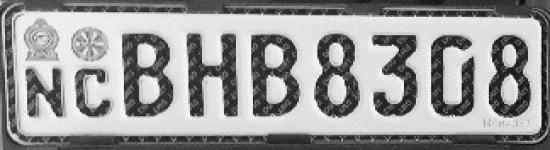0: (427, 31, 479, 122)
3: (367, 30, 420, 120)
8: (484, 30, 537, 124), (312, 29, 361, 120)
B: (244, 28, 306, 122), (118, 28, 177, 122)
C: (72, 65, 113, 120)
H: (183, 28, 241, 123)
N: (19, 63, 67, 122)
